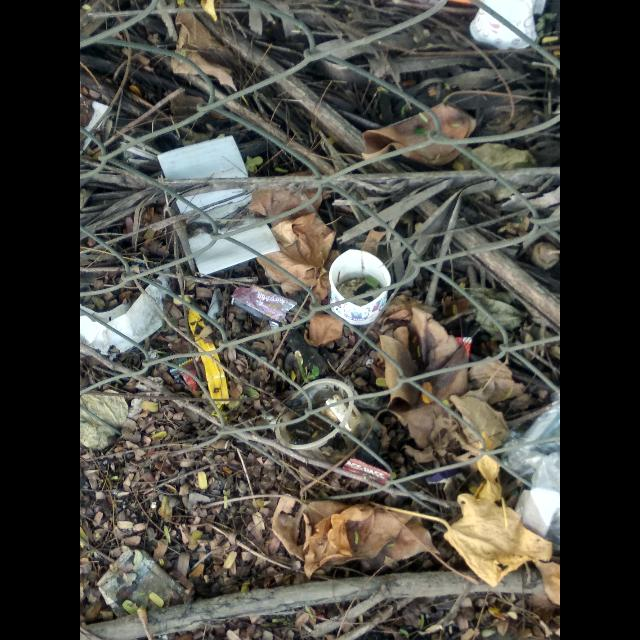trash: (157, 134, 281, 276), (80, 275, 168, 355), (328, 248, 392, 326), (188, 222, 280, 276), (157, 134, 249, 180), (469, 0, 541, 50), (230, 284, 298, 324)
